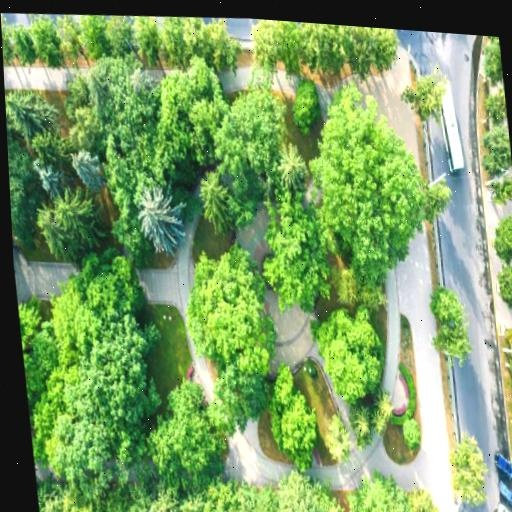tree-top: (309, 78, 421, 271), (188, 244, 273, 379), (253, 190, 330, 323), (146, 376, 227, 488), (81, 310, 153, 424), (214, 79, 287, 188), (317, 300, 389, 406), (257, 366, 322, 472), (63, 248, 144, 323), (419, 279, 472, 367), (146, 77, 196, 169), (339, 466, 430, 512), (105, 59, 157, 137), (445, 430, 494, 512), (213, 352, 262, 432), (48, 271, 92, 360), (139, 189, 189, 267), (70, 418, 119, 489), (270, 471, 342, 512), (30, 377, 70, 442), (301, 22, 343, 83), (4, 81, 43, 146), (406, 59, 446, 121), (101, 142, 136, 209), (196, 163, 235, 223), (7, 132, 31, 229), (287, 69, 322, 134), (343, 25, 379, 85), (247, 18, 282, 78), (18, 309, 42, 393), (192, 95, 225, 156), (30, 13, 62, 75), (208, 18, 241, 74), (183, 54, 220, 103), (53, 190, 89, 238), (64, 145, 104, 188), (272, 138, 304, 191), (130, 15, 164, 64), (158, 16, 190, 68), (482, 118, 512, 172), (101, 15, 134, 64), (325, 414, 353, 469), (32, 325, 62, 376), (183, 16, 213, 66), (55, 13, 86, 60), (83, 64, 112, 114), (31, 197, 59, 248), (369, 27, 400, 73), (112, 212, 142, 258), (58, 69, 87, 116), (81, 14, 109, 62), (275, 20, 303, 64), (245, 472, 275, 512), (370, 386, 398, 428), (490, 209, 512, 259), (35, 153, 63, 190), (480, 38, 503, 81), (351, 404, 375, 445), (497, 251, 512, 316), (483, 88, 508, 127), (227, 477, 254, 512), (75, 108, 97, 150), (61, 491, 101, 512), (491, 169, 512, 209), (403, 415, 426, 451), (8, 26, 32, 60), (97, 484, 124, 512), (153, 487, 181, 512), (179, 493, 209, 512), (124, 496, 156, 512), (502, 320, 512, 353), (47, 496, 66, 512), (1, 13, 9, 50), (37, 490, 47, 512), (510, 351, 512, 390), (511, 395, 512, 450)
